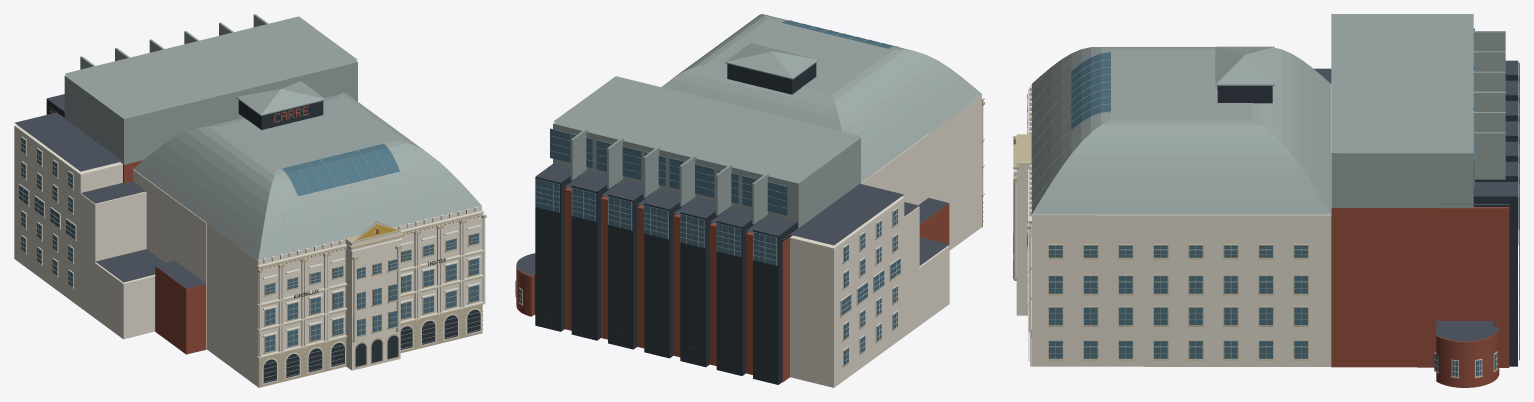
The model's file is royal-theater-carre.glb.
3 renders of one model, left to right at view 1: azimuth 30°, elevation 25°; view 2: azimuth 150°, elevation 25°; view 3: azimuth 270°, elevation 25°, orthographic. The views are drawn at different scales.
Visible parts, largest first — view 1: royal-theater-carre; view 2: royal-theater-carre; view 3: royal-theater-carre.
Boxes of the visible parts, bbox=[...] form: royal-theater-carre: bbox=[14, 14, 486, 387]; royal-theater-carre: bbox=[515, 14, 984, 387]; royal-theater-carre: bbox=[1013, 14, 1519, 387].
Bounding box in the file's own units: 51.96 × 32.61 × 60.76.
